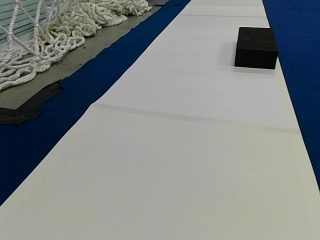block: (234, 26, 277, 68)
